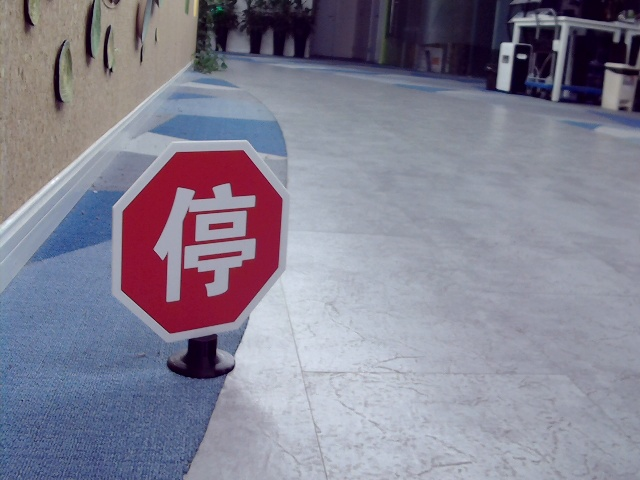stop: (157, 178, 256, 296)
